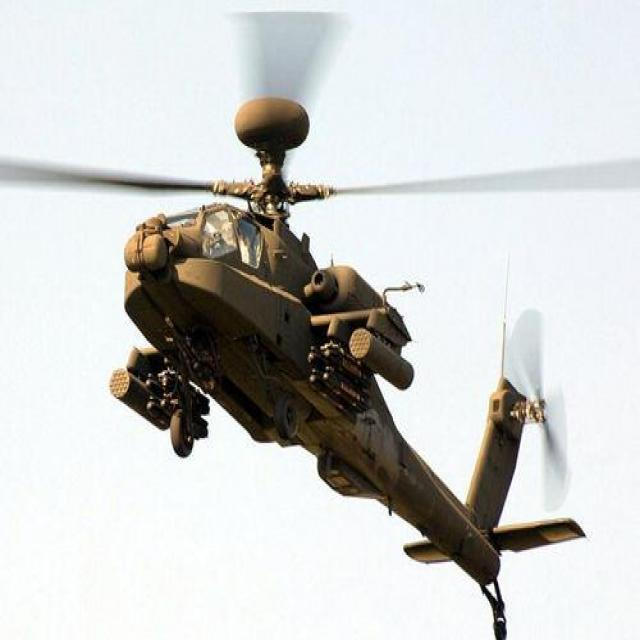MIL_HELO: (0, 79, 583, 640)
